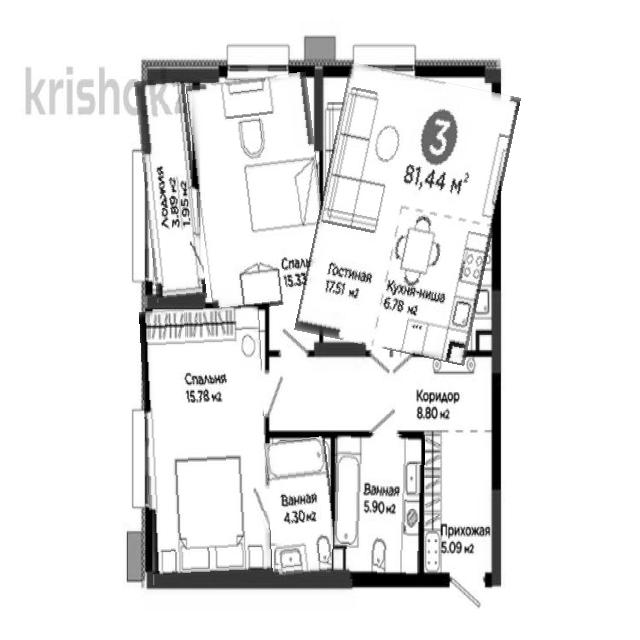balcony: (140, 77, 202, 302)
bathroom: (333, 433, 424, 581), (267, 438, 337, 578)
living_room: (142, 308, 270, 584), (192, 75, 327, 310)
studio: (308, 70, 508, 359)
